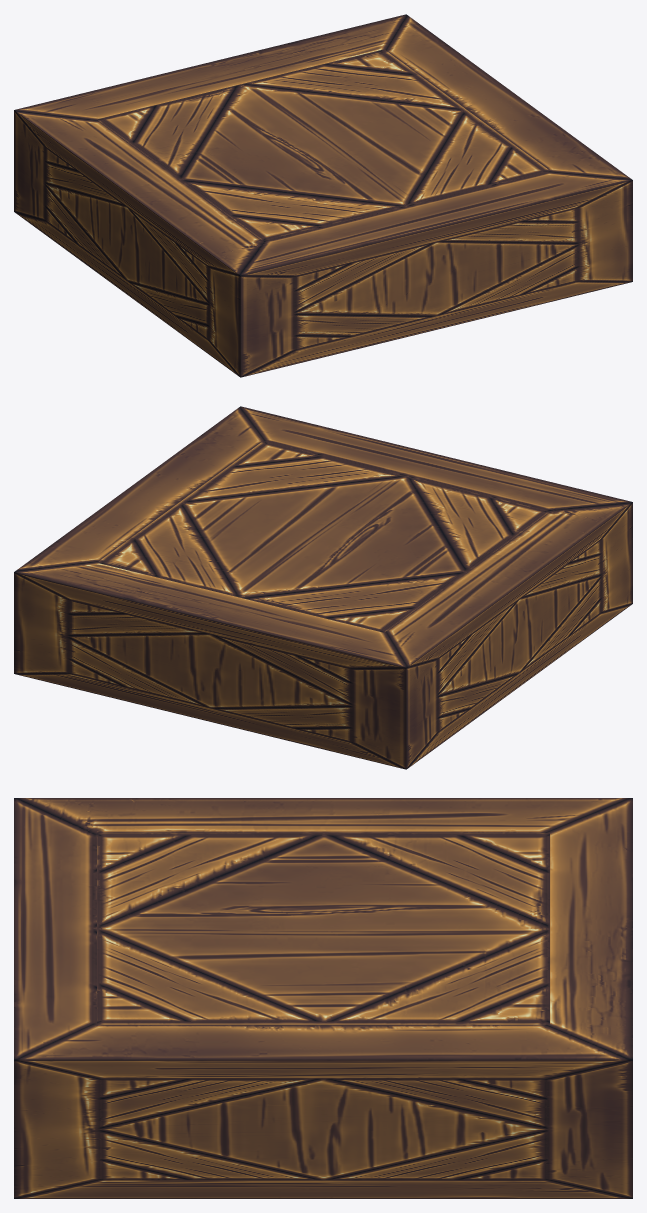
File: Weigth_Block.fbx
3 renders of one model, top to bottom at view 1: azimuth 30°, elevation 25°; view 2: azimuth 150°, elevation 25°; view 3: azimuth 270°, elevation 25°, orthographic. The views are drawn at different scales.
Parts seen in each view (by area): view 1: pCube2, pCube1; view 2: pCube2, pCube1; view 3: pCube2, pCube1.
Boxes of the visible parts, x1=… form: pCube2: x1=14, y1=14, x2=632, y2=377; pCube1: x1=97, y1=49, x2=549, y2=240; pCube2: x1=14, y1=406, x2=632, y2=769; pCube1: x1=97, y1=441, x2=549, y2=632; pCube2: x1=14, y1=798, x2=632, y2=1198; pCube1: x1=97, y1=833, x2=549, y2=1024.
Size of the model in its own units: 8.42 by 2.09 by 8.42.
1 material, 1 textured.
